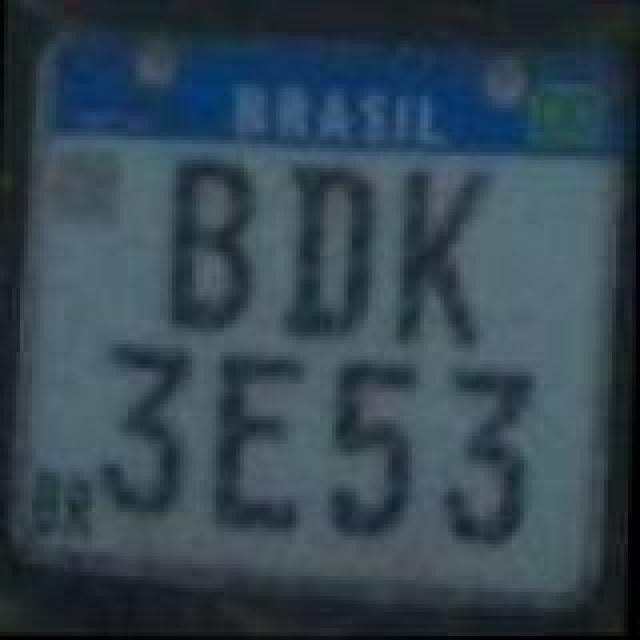3: (94, 340, 194, 528), (438, 364, 538, 552)
5: (326, 362, 426, 542)
B: (166, 158, 266, 338)
D: (274, 160, 382, 348)
E: (206, 352, 306, 540)
K: (392, 166, 500, 354)
